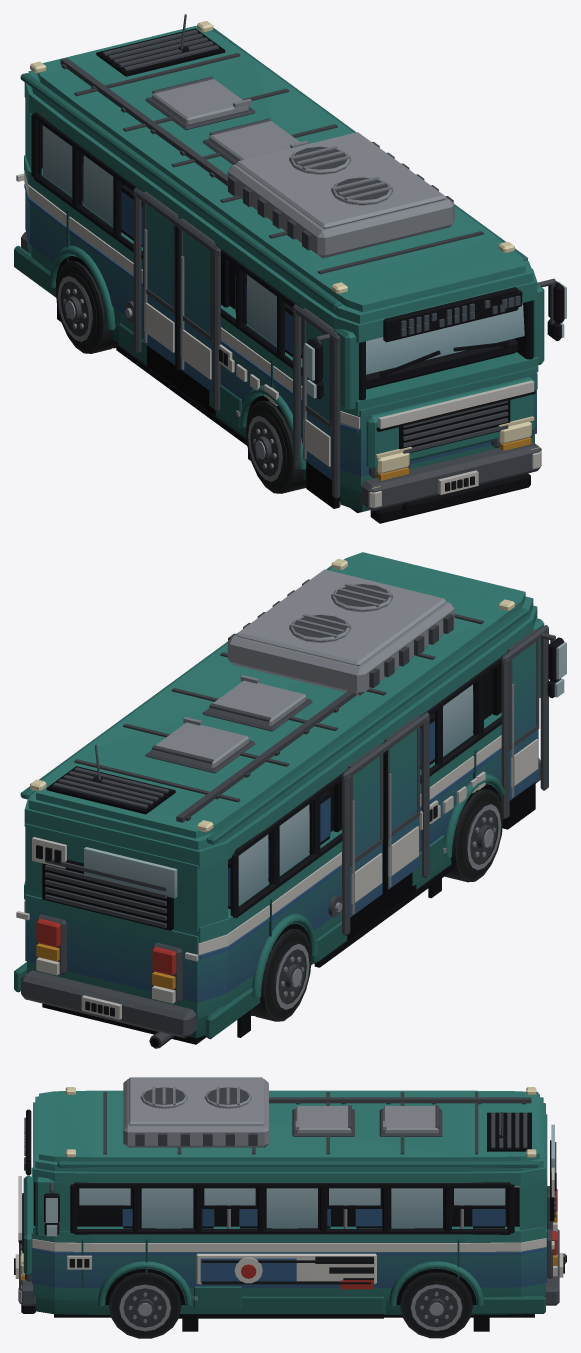
File: city_bus_01.glb
The picture shows the model from 3 angles, top to bottom: view 1: azimuth 30°, elevation 25°; view 2: azimuth 150°, elevation 25°; view 3: azimuth 270°, elevation 25°; orthographic projection. The views are drawn at different scales.
Visible parts, largest first — view 1: city_bus_01; view 2: city_bus_01; view 3: city_bus_01.
Part boxes in pixels (left/top/right/bottom): city_bus_01: left=14, top=14, right=566, bottom=523; city_bus_01: left=14, top=552, right=566, bottom=1048; city_bus_01: left=14, top=1077, right=566, bottom=1338.
Size of the model in its own units: 1.91 by 1.92 by 4.71.
